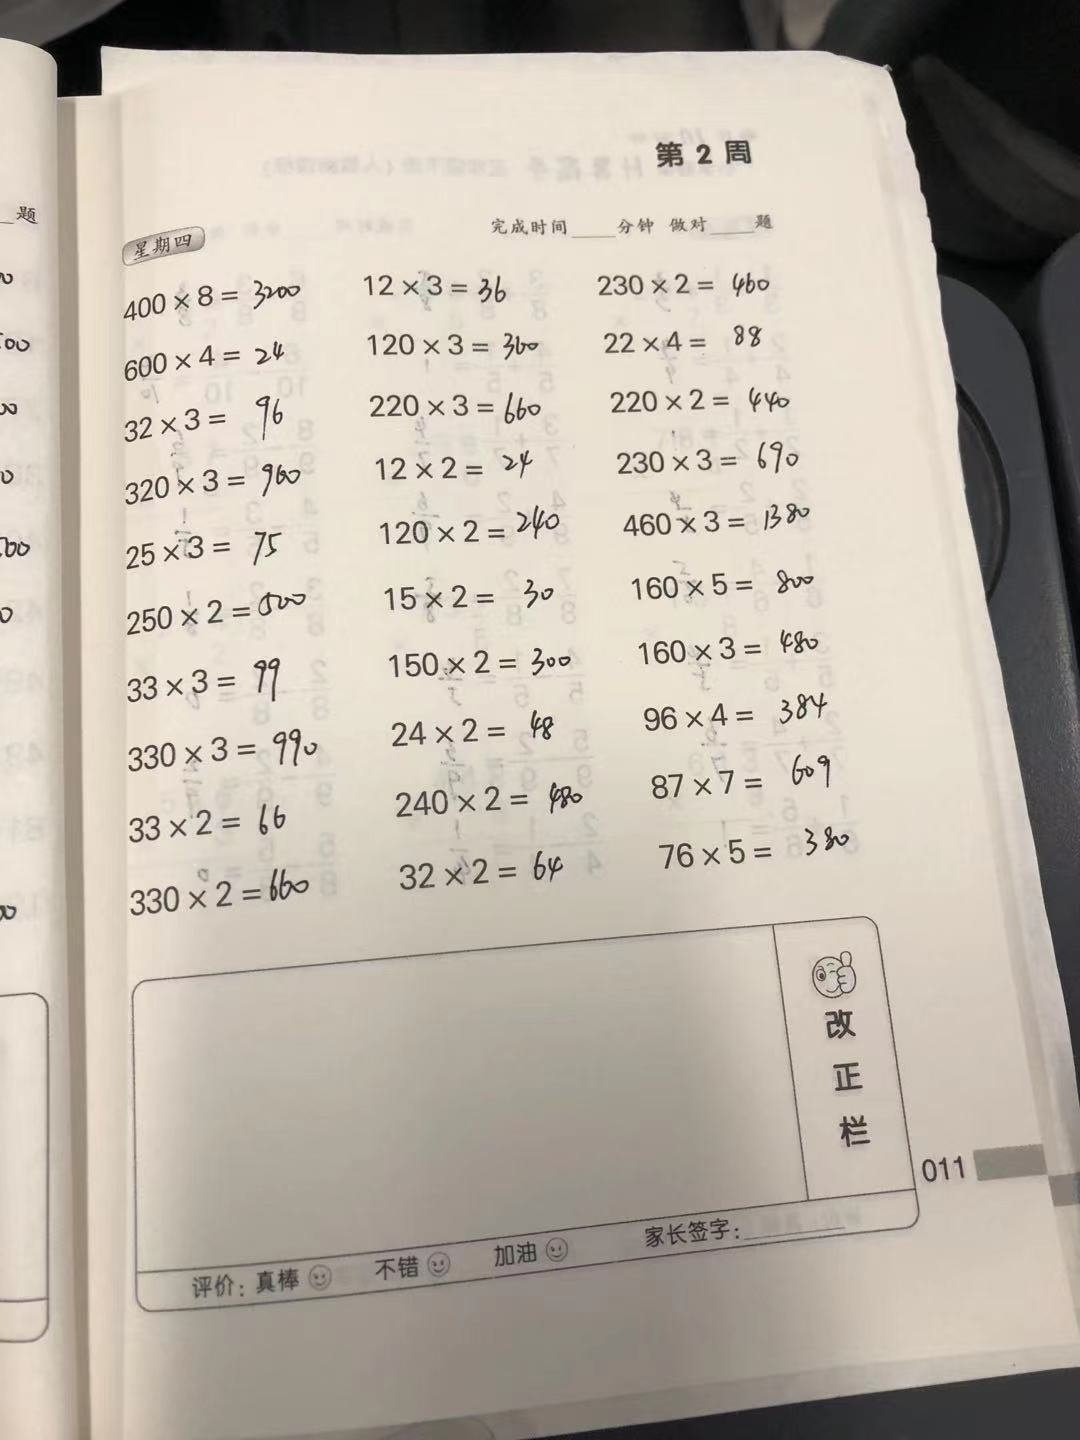equation: (111, 718, 357, 782), (116, 450, 345, 513), (123, 861, 351, 922), (628, 681, 861, 739), (379, 636, 604, 695), (113, 584, 339, 639), (113, 390, 328, 448), (633, 755, 850, 812), (379, 708, 602, 762), (117, 798, 341, 850), (113, 522, 328, 576), (608, 493, 827, 545), (101, 273, 336, 321), (644, 825, 874, 872), (376, 502, 584, 553), (387, 782, 611, 828), (622, 558, 832, 605), (356, 253, 530, 310), (362, 388, 568, 435), (116, 336, 311, 386), (602, 438, 822, 482), (639, 621, 847, 668), (111, 657, 313, 704), (396, 845, 590, 893), (356, 321, 588, 362), (382, 573, 576, 619), (599, 381, 824, 421), (587, 259, 782, 300), (365, 448, 557, 490), (604, 319, 784, 362)
